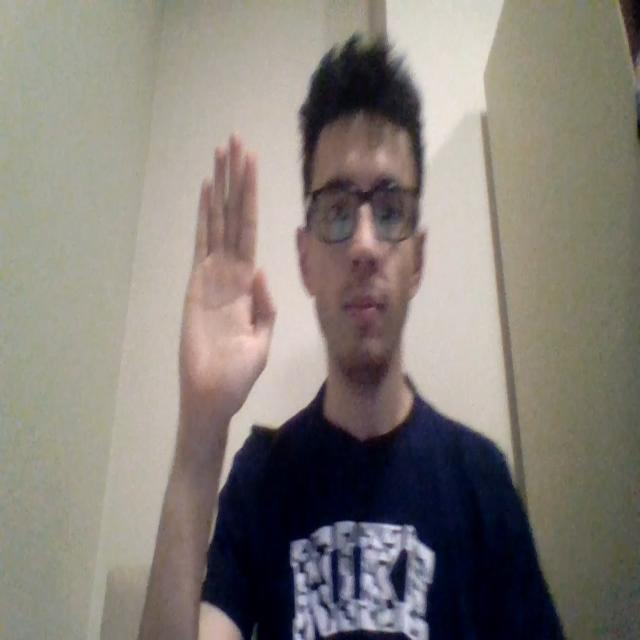hello: (176, 130, 278, 445)
